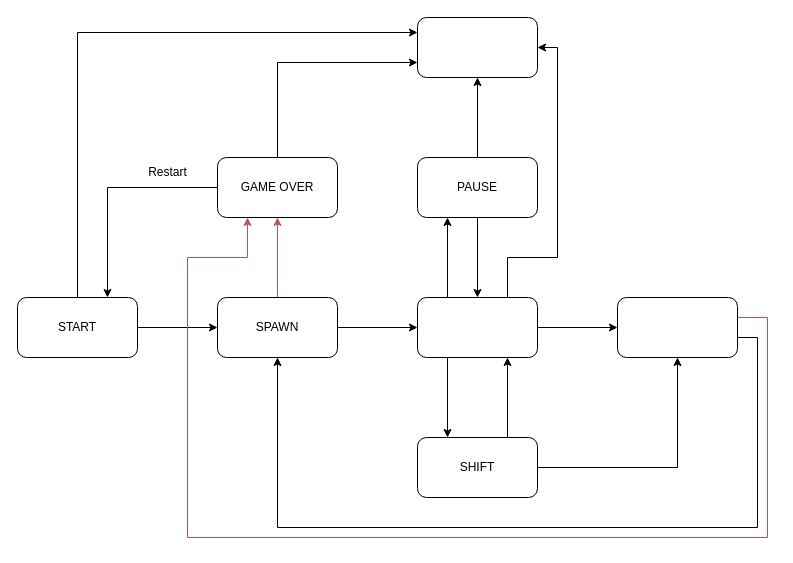
The diagram is 793 pixels wide and 563 high, and some of its shapes have lost their labels. Here are the shapes that lost their labels. From the top down, the centre of each, then its label:
At [477,47]: "EXIT".
At [477,327]: "MOVE".
At [677,327]: "ATTACH".
